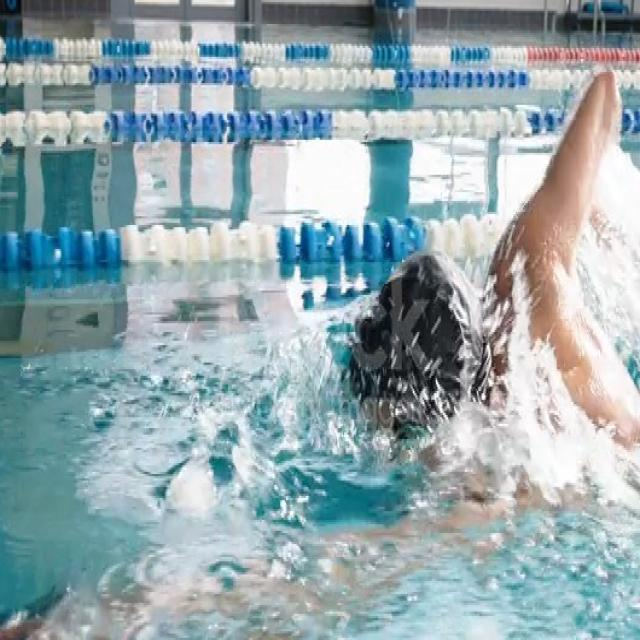Swimming: (344, 68, 640, 532)
